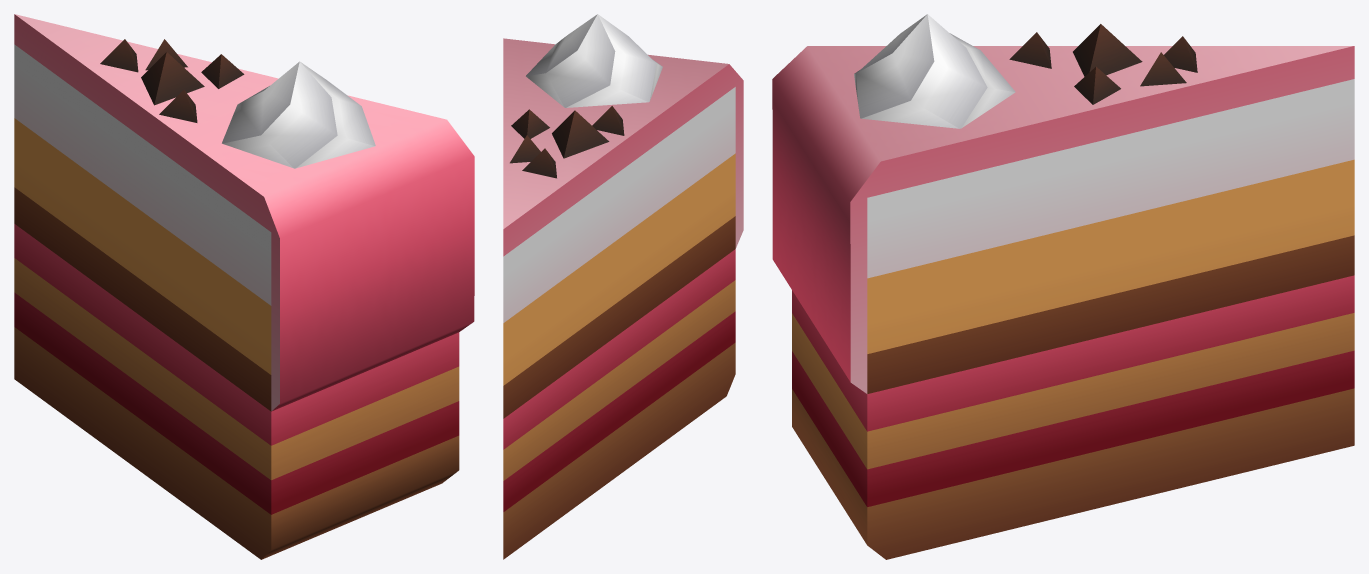
The model's file is m_Cake03_Slice01.fbx.
3 views of the same model, side by side, from view 1: azimuth 30°, elevation 25°; view 2: azimuth 150°, elevation 25°; view 3: azimuth 270°, elevation 25° (orthographic). The views are drawn at different scales.
Visible parts, largest first — view 1: m_Cake03_Slice01; view 2: m_Cake03_Slice01; view 3: m_Cake03_Slice01.
Boxes of the visible parts, x1=… form: m_Cake03_Slice01: x1=14, y1=14, x2=474, y2=559; m_Cake03_Slice01: x1=503, y1=14, x2=743, y2=559; m_Cake03_Slice01: x1=772, y1=14, x2=1354, y2=559.
Bounding box in the file's own units: 7.24 × 13.18 × 14.48.
